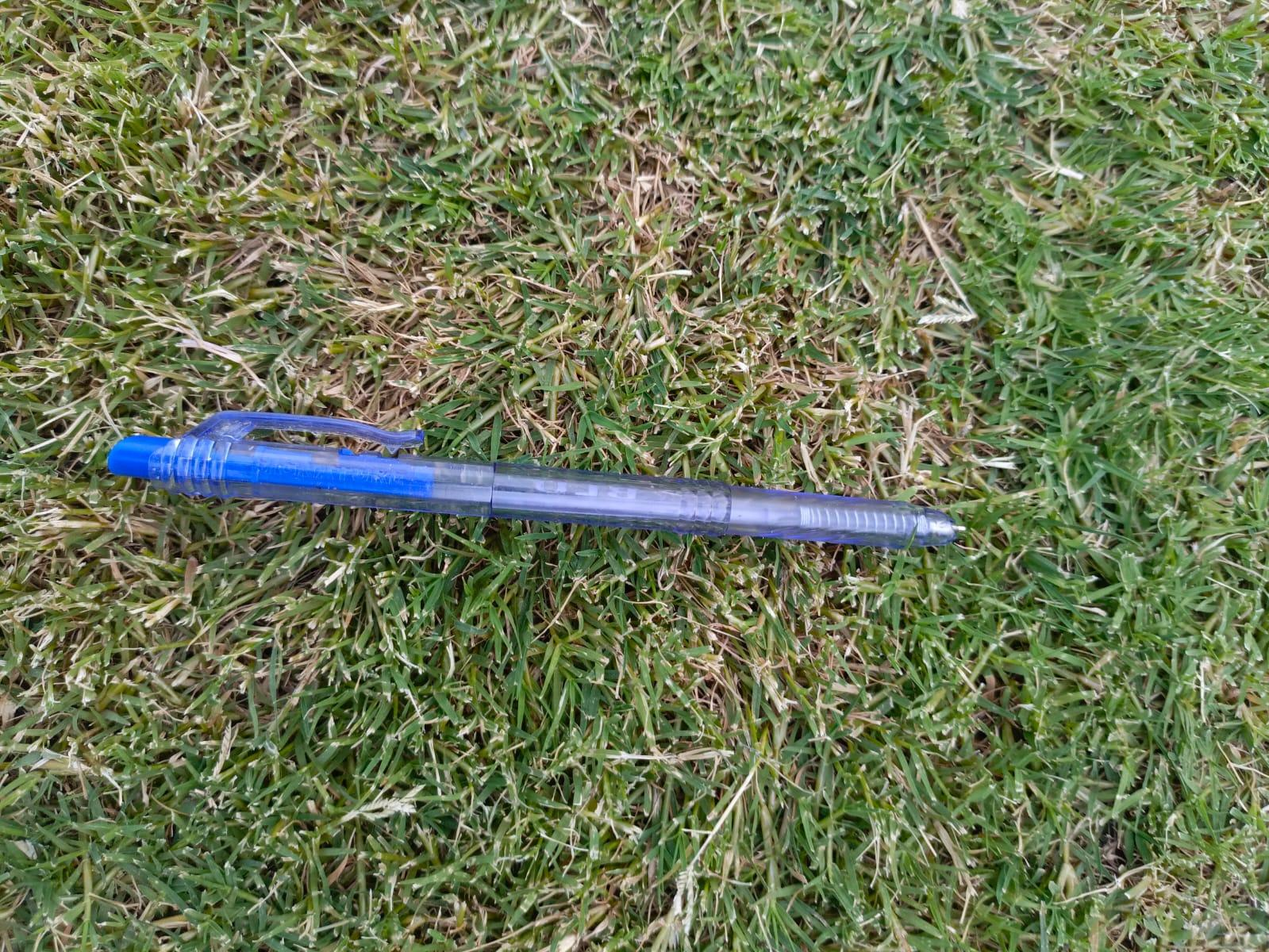pen: (109, 413, 954, 547)
